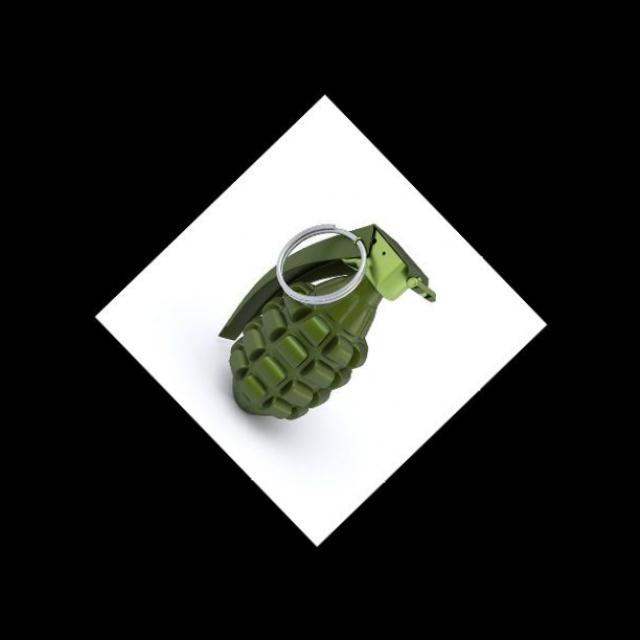grenade: (204, 208, 438, 425)
